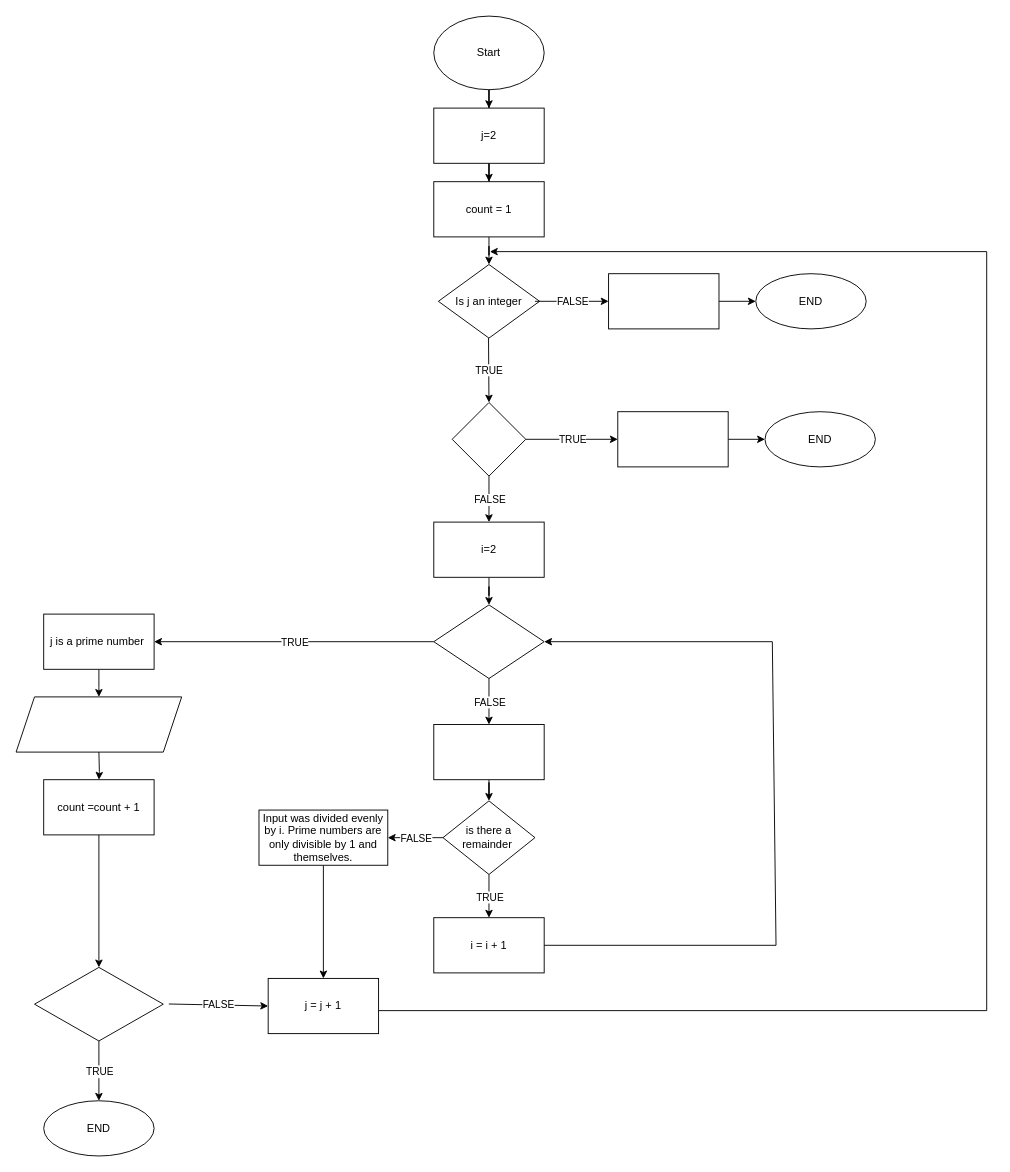
Some shapes in this 1010 by 1172 pixel diagram are drawn without their labels. The shapes that lost their labels are listed below. From the top down, each one's centre as x and y in pixels, then its label:
At [663,301]: "Prime numbers are integers".
At [488,439]: "is j < or = 1".
At [672,439]: "Prime numbers are greater than 1".
At [488,641]: "is i > or = to j".
At [98,724]: "Print j is a prime number and move on to new line".
At [488,752]: "Divide j by i".
At [98,1003]: "is count > or = 101".
